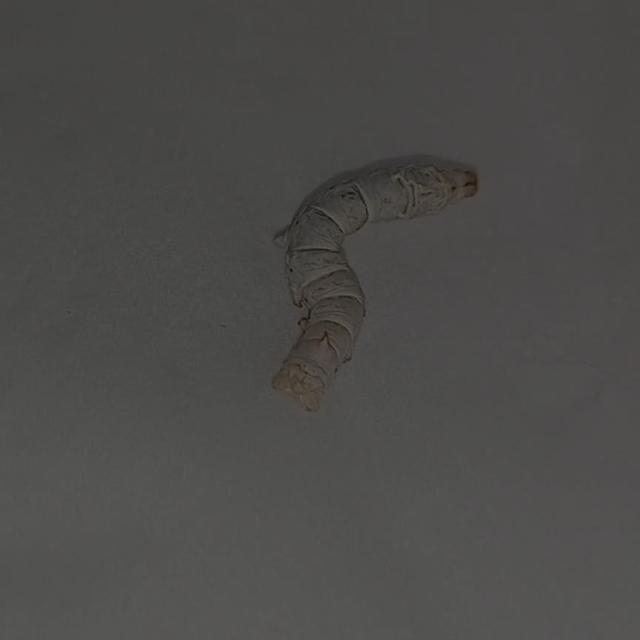Healthy: (249, 135, 506, 432)
